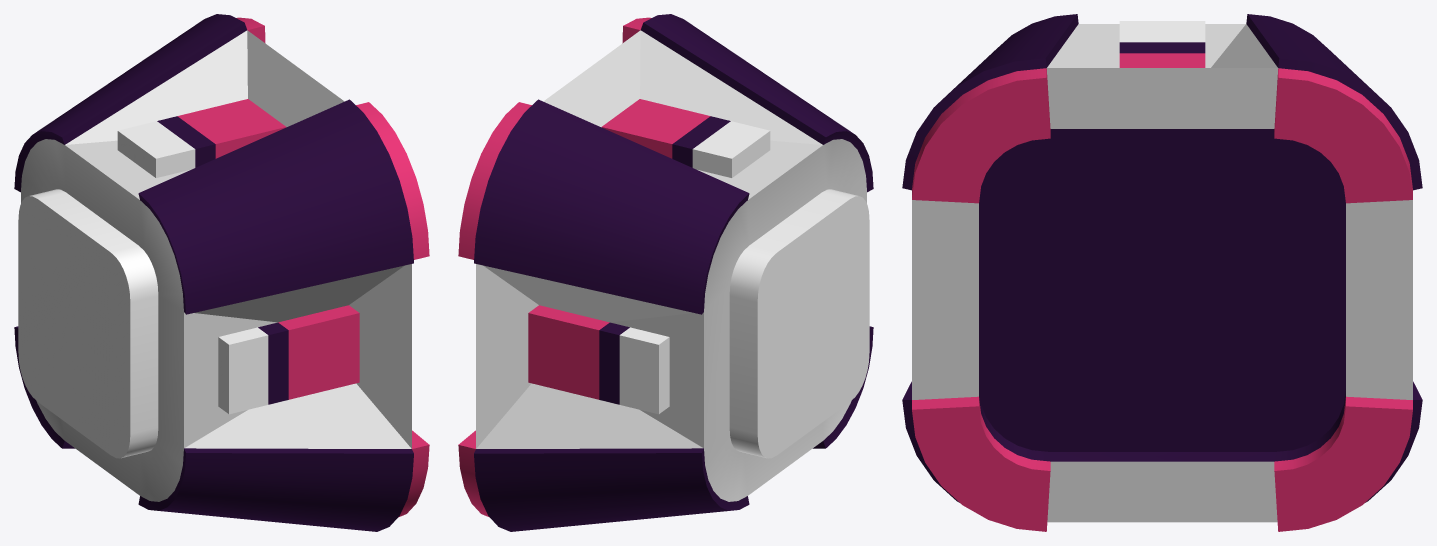
The model's file is core_adapter.fbx.
The picture shows the model from 3 angles, left to right: view 1: azimuth 30°, elevation 25°; view 2: azimuth 150°, elevation 25°; view 3: azimuth 270°, elevation 25°; orthographic projection. The views are drawn at different scales.
Parts seen in each view (by area): view 1: Cube; view 2: Cube; view 3: Cube.
Part boxes in pixels (x1,y1,x2,y2): Cube: (14,14,429,531); Cube: (458,14,873,531); Cube: (902,14,1422,531).
Bounding box in the file's own units: 89.27 × 149 × 149.
